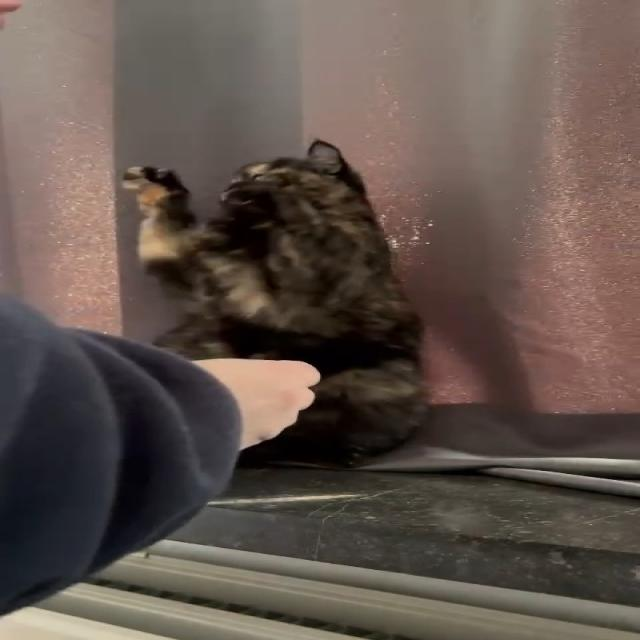authorized: (121, 137, 432, 469)
